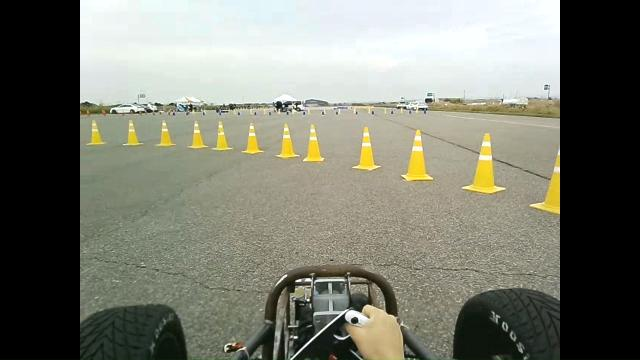yellow cone: (461, 132, 506, 194), (529, 150, 560, 214), (401, 129, 433, 181), (352, 125, 381, 171), (275, 122, 300, 159), (302, 123, 324, 162), (241, 121, 264, 154), (211, 120, 233, 151), (187, 120, 208, 148), (155, 119, 176, 146), (122, 119, 143, 146), (86, 119, 106, 145)
